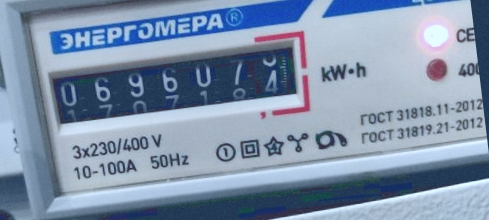0: (192, 57, 213, 89), (58, 78, 78, 108)
4: (260, 64, 280, 95)
6: (159, 63, 179, 93), (92, 73, 112, 102)
7: (225, 54, 248, 87)
9: (124, 69, 146, 99)
screen: (33, 25, 318, 142)
